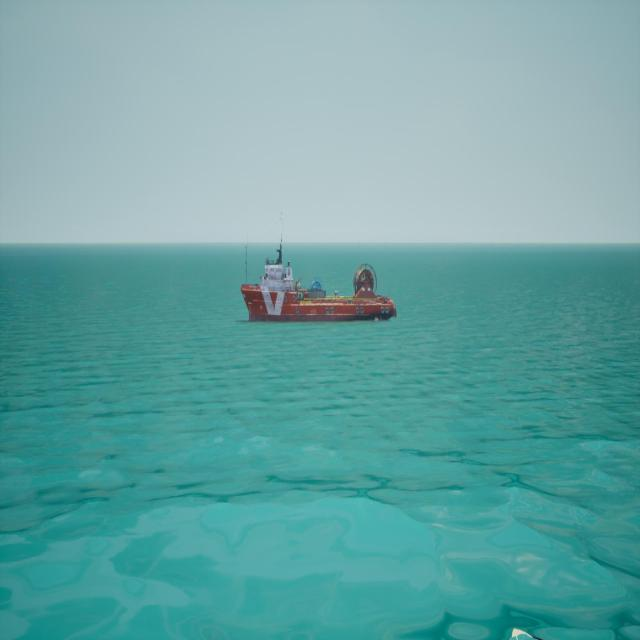tug boat: (241, 241, 396, 328)
